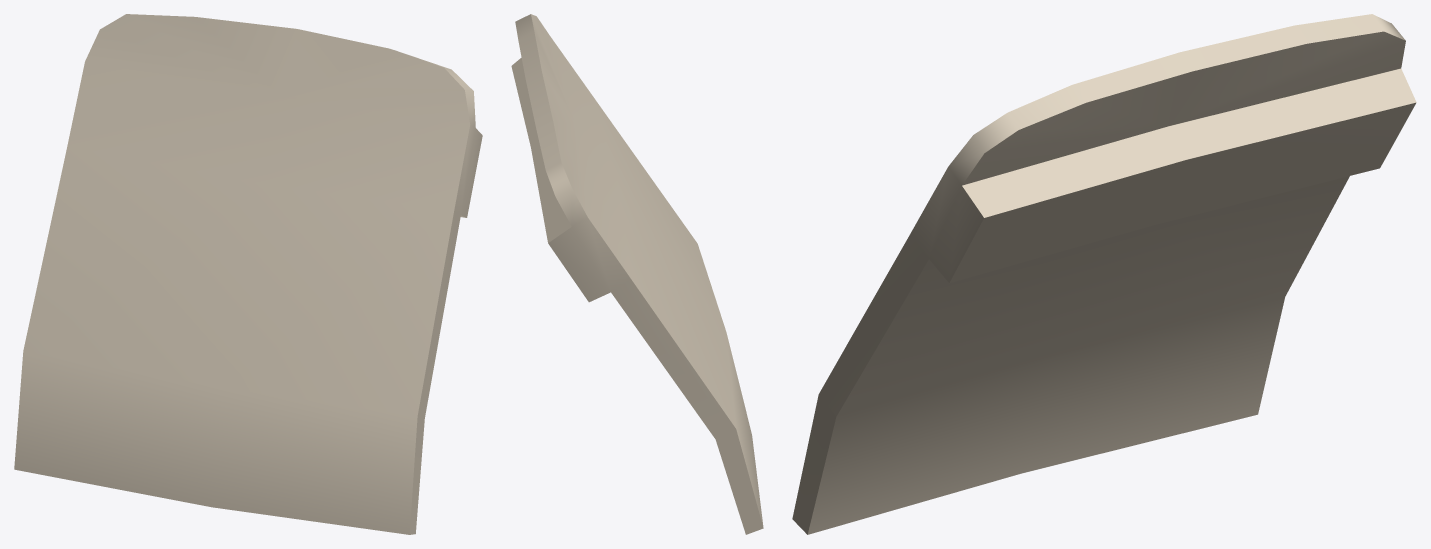
Rendered from rider-shoulderarmor-slice-mediumstablesoldiers.glb.
The picture shows the model from 3 angles, left to right: view 1: azimuth 30°, elevation 25°; view 2: azimuth 150°, elevation 25°; view 3: azimuth 270°, elevation 25°; orthographic projection. The views are drawn at different scales.
Bounding box in the file's own units: 0.1983 × 0.2085 × 0.2294.
